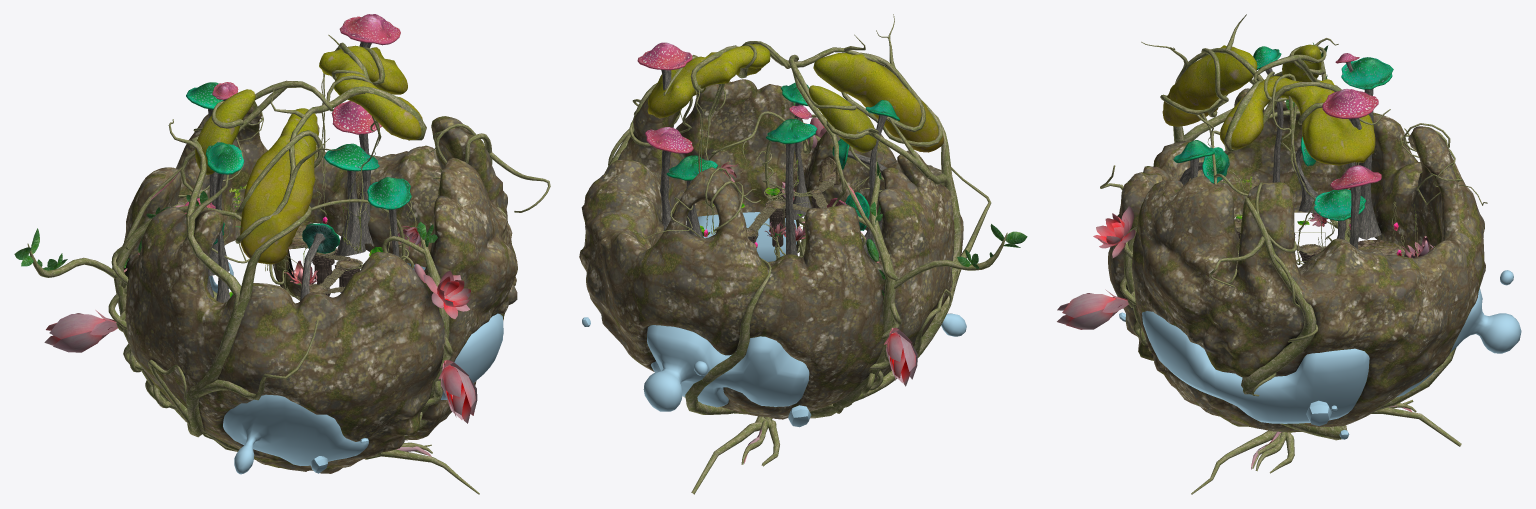
3 renders of one model, left to right at view 1: azimuth 30°, elevation 25°; view 2: azimuth 150°, elevation 25°; view 3: azimuth 270°, elevation 25°, orthographic. The views are drawn at different scales.
Visible parts, largest first — view 1: model_12, model_19, model_04, model_07, model_18, model_08, model_00, sl_way_00; view 2: model_12, model_19, model_04, model_07, model_08, model_18, sl_way_00, model_00; view 3: model_12, model_19, model_04, model_07, model_18, model_08, model_05.
Part boxes in pixels (x1,y1,x2,y2): model_12: [123, 45, 517, 473]; model_19: [27, 34, 550, 494]; model_04: [209, 262, 503, 474]; model_07: [186, 82, 411, 302]; model_18: [14, 170, 477, 456]; model_08: [185, 14, 400, 243]; model_00: [312, 250, 361, 296]; sl_way_00: [299, 244, 361, 294]; model_12: [579, 44, 963, 419]; model_19: [606, 14, 1007, 494]; model_04: [582, 212, 966, 427]; model_07: [666, 83, 899, 257]; model_08: [637, 42, 846, 231]; model_18: [744, 102, 1027, 463]; sl_way_00: [746, 181, 834, 239]; model_00: [748, 192, 822, 247]; model_12: [1108, 44, 1485, 432]; model_19: [1100, 14, 1487, 494]; model_04: [1119, 270, 1521, 439]; model_07: [1173, 46, 1393, 239]; model_18: [1057, 43, 1411, 469]; model_08: [1322, 53, 1381, 248]; model_05: [1310, 212, 1434, 258].
Size of the model in its own units: 140 by 120 by 125.
17 materials, 14 textured.
